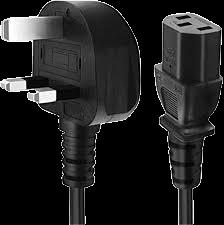cable: (0, 0, 141, 224), (155, 13, 223, 224)
